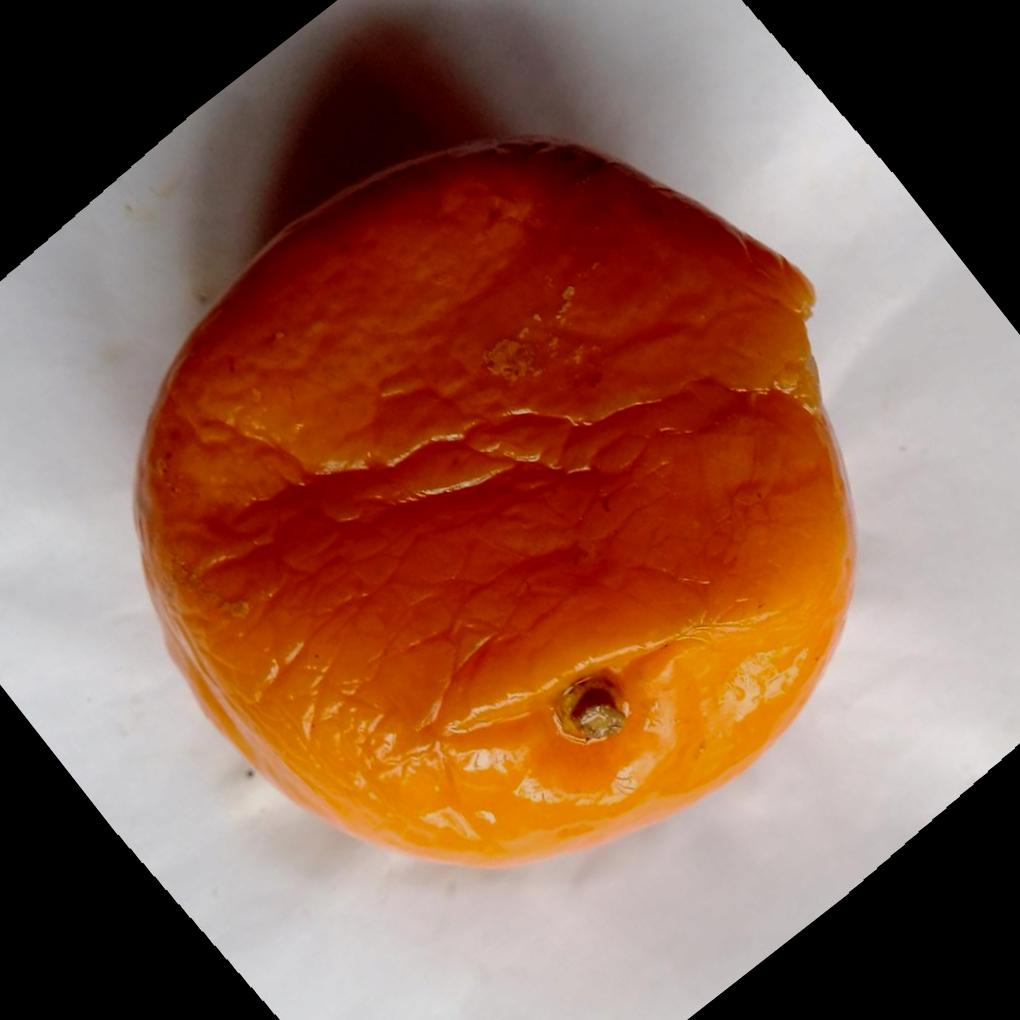FreshOrange: (130, 133, 856, 869)
